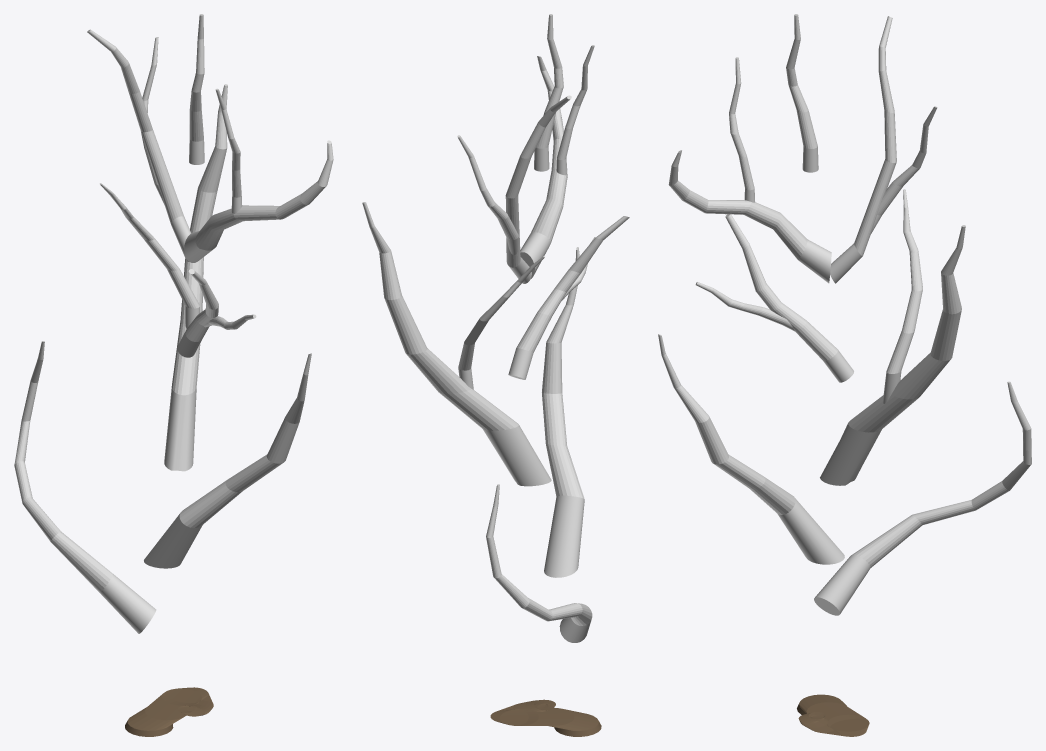
Rendered from TreeBranchV6.fbx.
The picture shows the model from 3 angles, left to right: view 1: azimuth 30°, elevation 25°; view 2: azimuth 150°, elevation 25°; view 3: azimuth 270°, elevation 25°; orthographic projection. The views are drawn at different scales.
Parts seen in each view (by area): view 1: Limb7_OBJ, Limb5_OBJ, Limb2_OBJ, Limb1_OBJ, Limb4_OBJ, MainBranch, Limb10_OBJ, Limb6_OBJ, Limb8_OBJ, Limb3_OBJ, Limb11_OBJ; view 2: Limb7_OBJ, Limb5_OBJ, Limb1_OBJ, Limb2_OBJ, Limb8_OBJ, MainBranch, Limb4_OBJ, Limb6_OBJ, Limb10_OBJ, Limb11_OBJ, Limb3_OBJ; view 3: Limb7_OBJ, Limb5_OBJ, Limb2_OBJ, Limb1_OBJ, Limb4_OBJ, Limb8_OBJ, Limb10_OBJ, MainBranch, Limb6_OBJ, Limb3_OBJ, Limb11_OBJ, Limb9_OBJ.
Boxes of the visible parts, bbox=[...] form: Limb7_OBJ: bbox=[164, 84, 227, 471]; Limb5_OBJ: bbox=[144, 353, 311, 568]; Limb2_OBJ: bbox=[14, 341, 156, 633]; Limb1_OBJ: bbox=[184, 140, 333, 262]; Limb4_OBJ: bbox=[87, 29, 191, 261]; MainBranch: bbox=[125, 687, 213, 736]; Limb10_OBJ: bbox=[99, 183, 199, 328]; Limb6_OBJ: bbox=[189, 14, 204, 164]; Limb8_OBJ: bbox=[177, 269, 218, 357]; Limb3_OBJ: bbox=[215, 88, 242, 213]; Limb11_OBJ: bbox=[141, 37, 164, 205]; Limb7_OBJ: bbox=[362, 202, 551, 486]; Limb5_OBJ: bbox=[542, 247, 584, 577]; Limb1_OBJ: bbox=[520, 56, 567, 278]; Limb2_OBJ: bbox=[486, 484, 592, 642]; Limb8_OBJ: bbox=[508, 216, 629, 379]; MainBranch: bbox=[490, 699, 601, 736]; Limb4_OBJ: bbox=[505, 95, 571, 283]; Limb6_OBJ: bbox=[534, 14, 563, 171]; Limb10_OBJ: bbox=[458, 256, 544, 389]; Limb11_OBJ: bbox=[457, 135, 518, 255]; Limb3_OBJ: bbox=[556, 45, 594, 175]; Limb7_OBJ: bbox=[820, 225, 965, 485]; Limb5_OBJ: bbox=[658, 334, 844, 564]; Limb2_OBJ: bbox=[814, 381, 1031, 615]; Limb1_OBJ: bbox=[668, 150, 831, 283]; Limb4_OBJ: bbox=[830, 16, 896, 283]; Limb8_OBJ: bbox=[725, 214, 853, 382]; Limb10_OBJ: bbox=[883, 189, 922, 403]; MainBranch: bbox=[797, 694, 869, 736]; Limb6_OBJ: bbox=[786, 14, 818, 172]; Limb3_OBJ: bbox=[729, 57, 754, 202]; Limb11_OBJ: bbox=[871, 106, 937, 233]; Limb9_OBJ: bbox=[695, 282, 794, 331].
Bounding box in the file's own units: 6.64 × 22.44 × 10.66.
